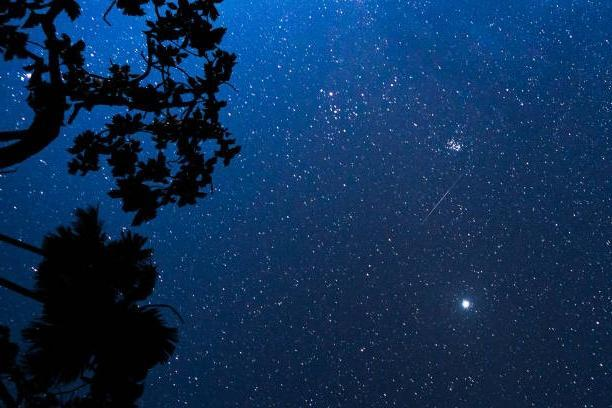meteorite: (423, 169, 466, 215)
